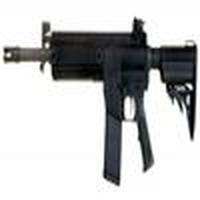gun: (4, 26, 193, 152)
